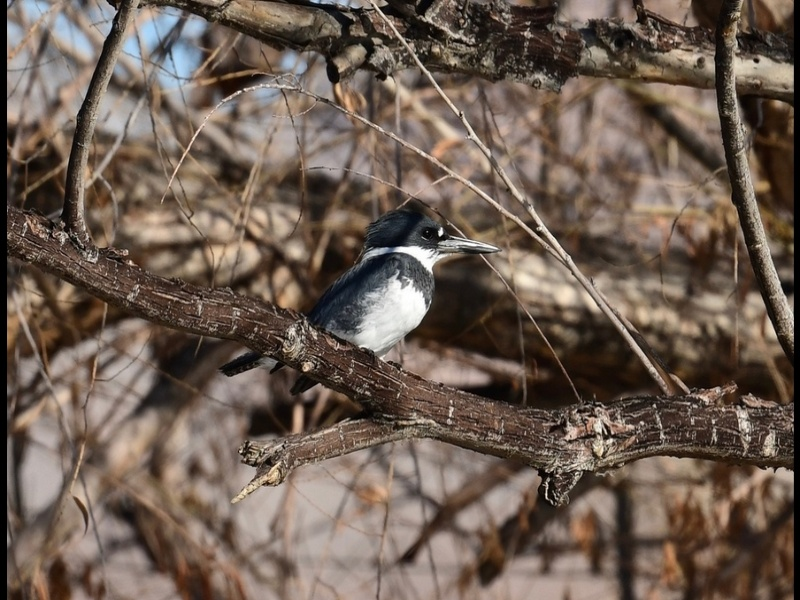kingfisher: (206, 200, 509, 400)
